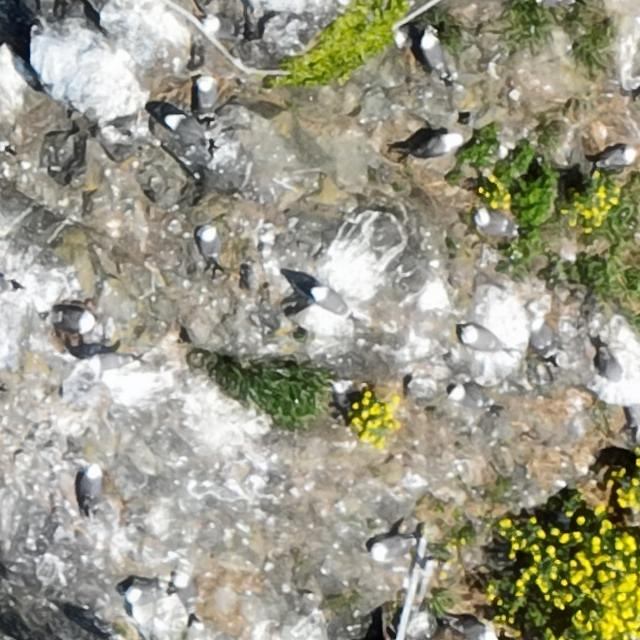umineko: (164, 113, 216, 156), (529, 314, 560, 371), (596, 339, 628, 388), (474, 208, 521, 240), (126, 578, 176, 607), (449, 386, 496, 416), (312, 289, 353, 315), (48, 308, 92, 328), (451, 619, 494, 639), (462, 328, 501, 350), (176, 573, 199, 610), (370, 538, 407, 560), (423, 35, 445, 71), (419, 135, 455, 156), (206, 16, 239, 38), (599, 148, 635, 168), (84, 466, 102, 502), (196, 78, 214, 112), (200, 227, 218, 261), (334, 380, 351, 409)
